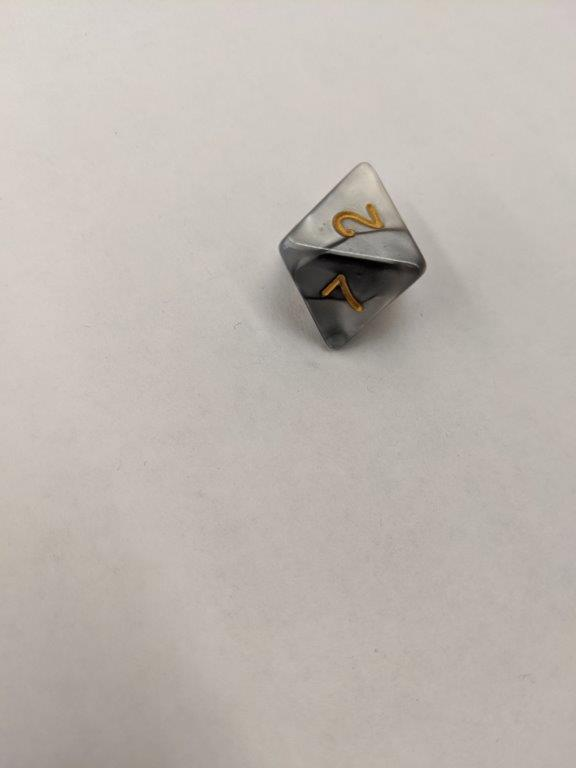d8-2: (280, 162, 427, 352)
